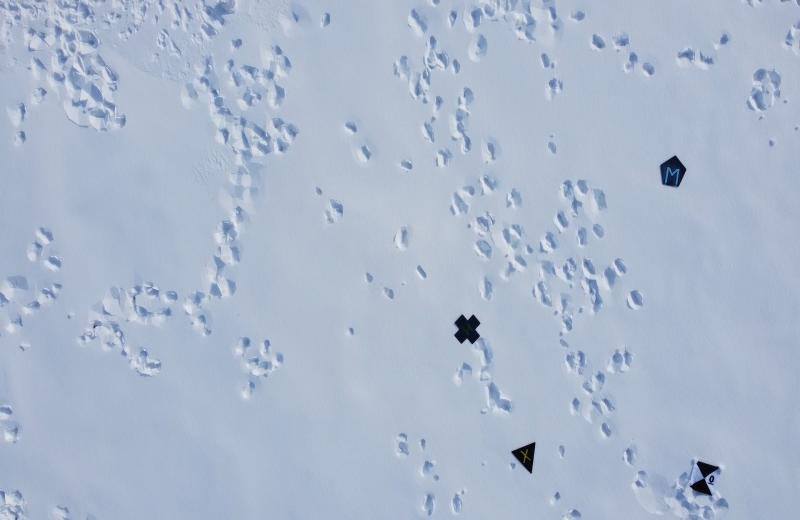Cross: (450, 310, 485, 348)
Pentagon: (654, 153, 688, 192)
Triangle: (507, 438, 538, 475)
